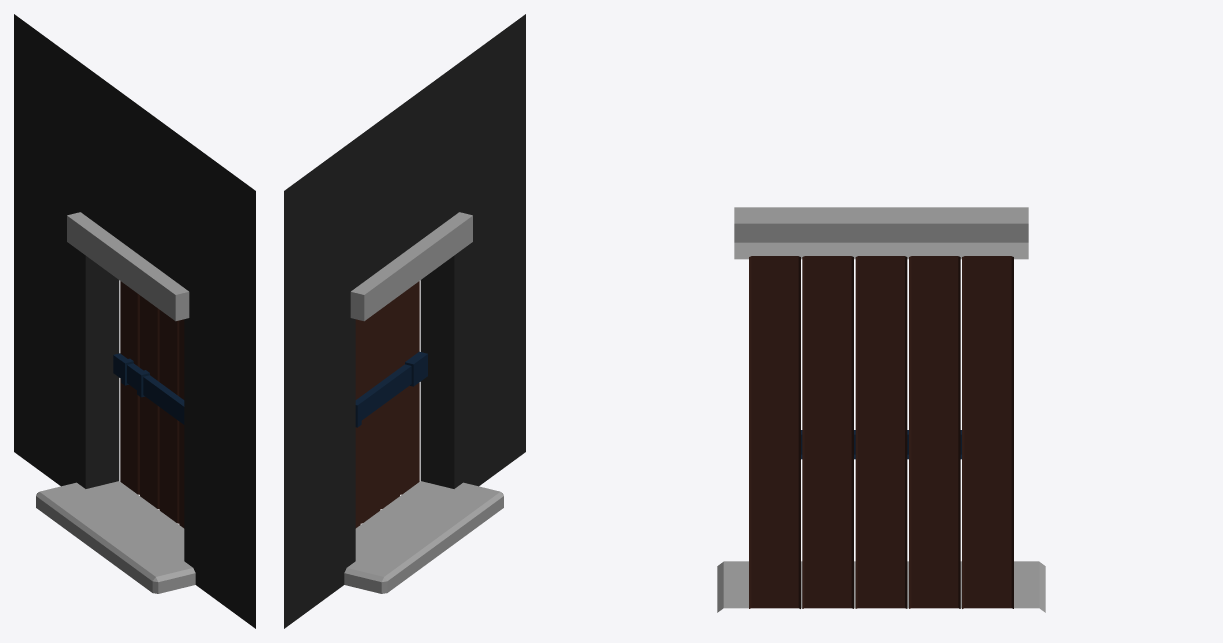
File: standard_door_1.FBX
The picture shows the model from 3 angles, left to right: view 1: azimuth 30°, elevation 25°; view 2: azimuth 150°, elevation 25°; view 3: azimuth 270°, elevation 25°; orthographic projection. The views are drawn at different scales.
Visible parts, largest first — view 1: standard_door_1; view 2: standard_door_1; view 3: standard_door_1.
Part boxes in pixels (x1,y1,x2,y2): standard_door_1: [14, 14, 255, 628]; standard_door_1: [284, 14, 525, 628]; standard_door_1: [717, 207, 1045, 612].
Bounding box in the file's own units: 92.2 × 500 × 500.
